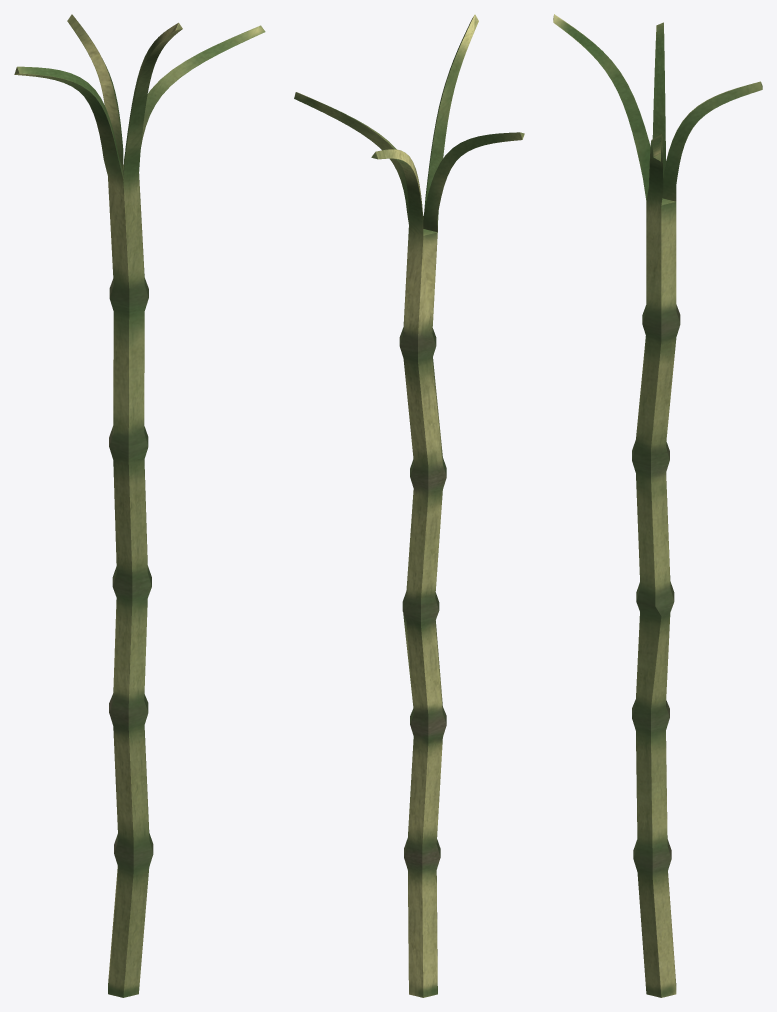
File: sugarcane.glb
3 renders of one model, left to right at view 1: azimuth 30°, elevation 25°; view 2: azimuth 150°, elevation 25°; view 3: azimuth 270°, elevation 25°, orthographic. The views are drawn at different scales.
Parts seen in each view (by area): view 1: Object_2; view 2: Object_2; view 3: Object_2.
Boxes of the visible parts, x1,y1,x2,y2 form: Object_2: (14, 14, 265, 997); Object_2: (294, 14, 524, 997); Object_2: (553, 14, 762, 997).
Size of the model in its own units: 0.4396 by 1.72 by 0.3335.
Materials: 1 (1 with a texture image).
